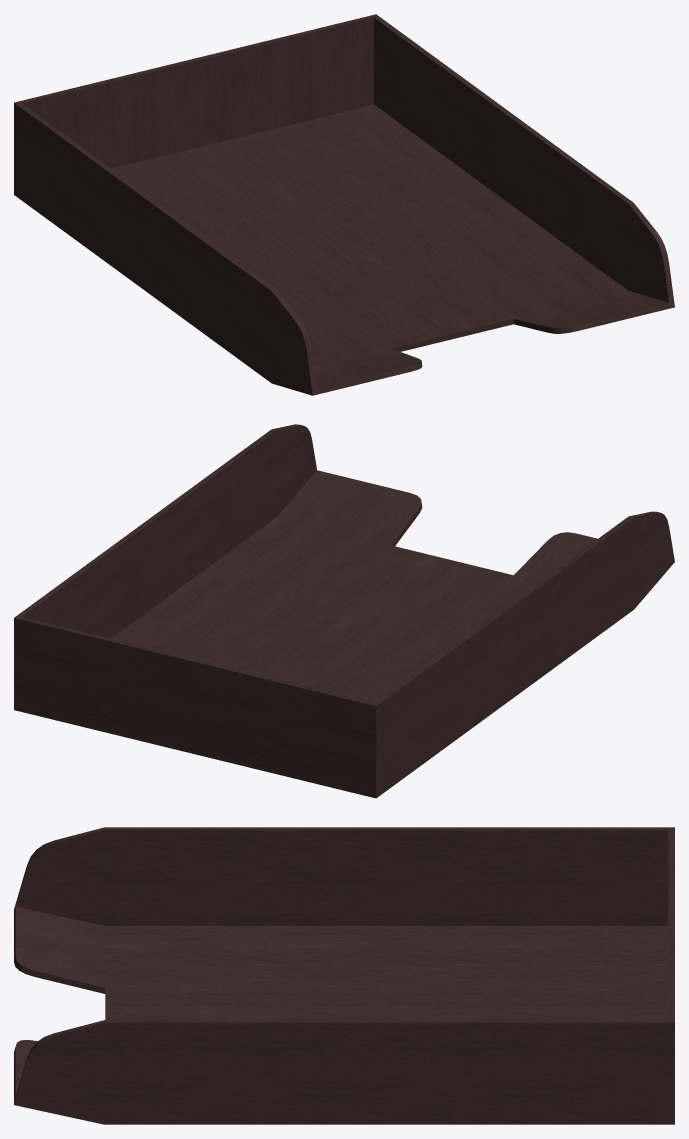
File: PaperTray.fbx
The picture shows the model from 3 angles, top to bottom: view 1: azimuth 30°, elevation 25°; view 2: azimuth 150°, elevation 25°; view 3: azimuth 270°, elevation 25°; orthographic projection. The views are drawn at different scales.
Parts seen in each view (by area): view 1: PaperTray; view 2: PaperTray; view 3: PaperTray.
Part boxes in pixels (x1=…): PaperTray: x1=14, y1=14, x2=674, y2=395; PaperTray: x1=14, y1=424, x2=674, y2=798; PaperTray: x1=14, y1=827, x2=674, y2=1124.
Size of the model in its own units: 23.74 by 5.78 by 33.92.
